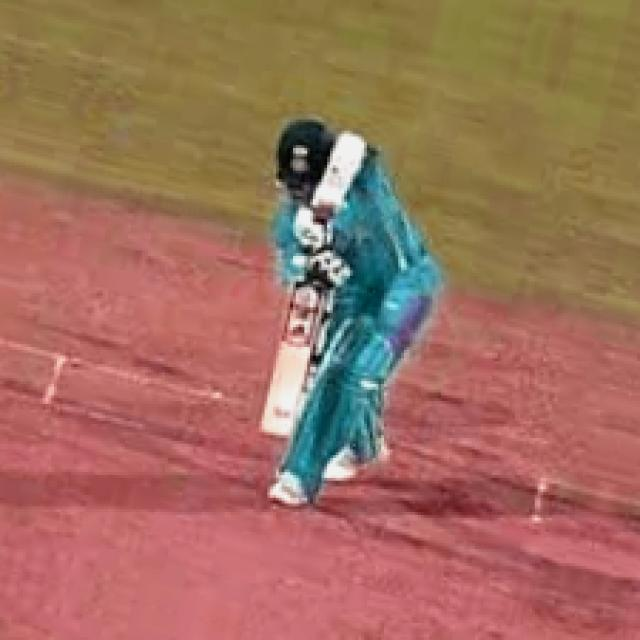bat: (257, 285, 325, 440)
toe: (255, 425, 297, 442)
